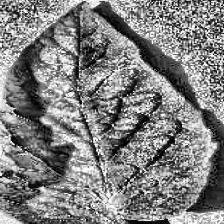spider mites: (0, 0, 218, 224)
